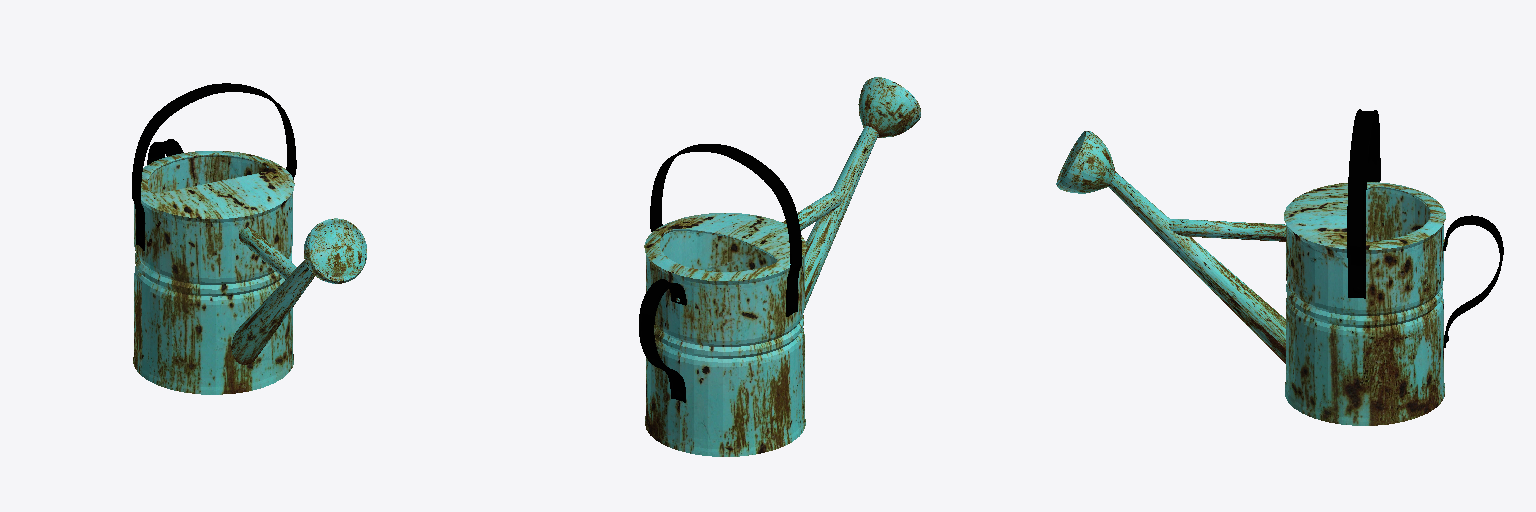
3 views of the same model, side by side, from view 1: azimuth 30°, elevation 25°; view 2: azimuth 150°, elevation 25°; view 3: azimuth 270°, elevation 25° (orthographic).
Parts seen in each view (by area): view 1: WateringCan Body, WateringCan HandleTop, WateringCan Pipe1, WateringCan Mouth, WateringCan Mouth1, WateringCan Pipe2, WateringCan HandleBack; view 2: WateringCan Body, WateringCan HandleTop, WateringCan Pipe1, WateringCan Mouth1, WateringCan HandleBack, WateringCan Pipe2; view 3: WateringCan Body, WateringCan Pipe1, WateringCan HandleTop, WateringCan Mouth1, WateringCan Pipe2, WateringCan HandleBack.
Boxes of the visible parts, x1=… form: WateringCan Body: x1=133, y1=151, x2=294, y2=394; WateringCan HandleTop: x1=132, y1=83, x2=296, y2=250; WateringCan Pipe1: x1=231, y1=260, x2=314, y2=364; WateringCan Mouth: x1=313, y1=224, x2=361, y2=276; WateringCan Mouth1: x1=304, y1=218, x2=366, y2=283; WateringCan Pipe2: x1=239, y1=227, x2=296, y2=279; WateringCan HandleBack: x1=147, y1=139, x2=183, y2=164; WateringCan Body: x1=644, y1=213, x2=806, y2=456; WateringCan HandleTop: x1=650, y1=144, x2=801, y2=316; WateringCan Pipe1: x1=804, y1=126, x2=878, y2=309; WateringCan Mouth1: x1=858, y1=77, x2=920, y2=137; WateringCan HandleBack: x1=639, y1=279, x2=686, y2=402; WateringCan Pipe2: x1=782, y1=189, x2=843, y2=230; WateringCan Body: x1=1284, y1=182, x2=1445, y2=425; WateringCan Pipe1: x1=1109, y1=172, x2=1285, y2=363; WateringCan HandleTop: x1=1347, y1=109, x2=1380, y2=298; WateringCan Mouth1: x1=1056, y1=131, x2=1115, y2=193; WateringCan Pipe2: x1=1169, y1=219, x2=1285, y2=241; WateringCan HandleBack: x1=1443, y1=215, x2=1503, y2=347.
Size of the model in its own units: 27.64 by 47.85 by 70.61.
Materials: 2 (1 with a texture image).